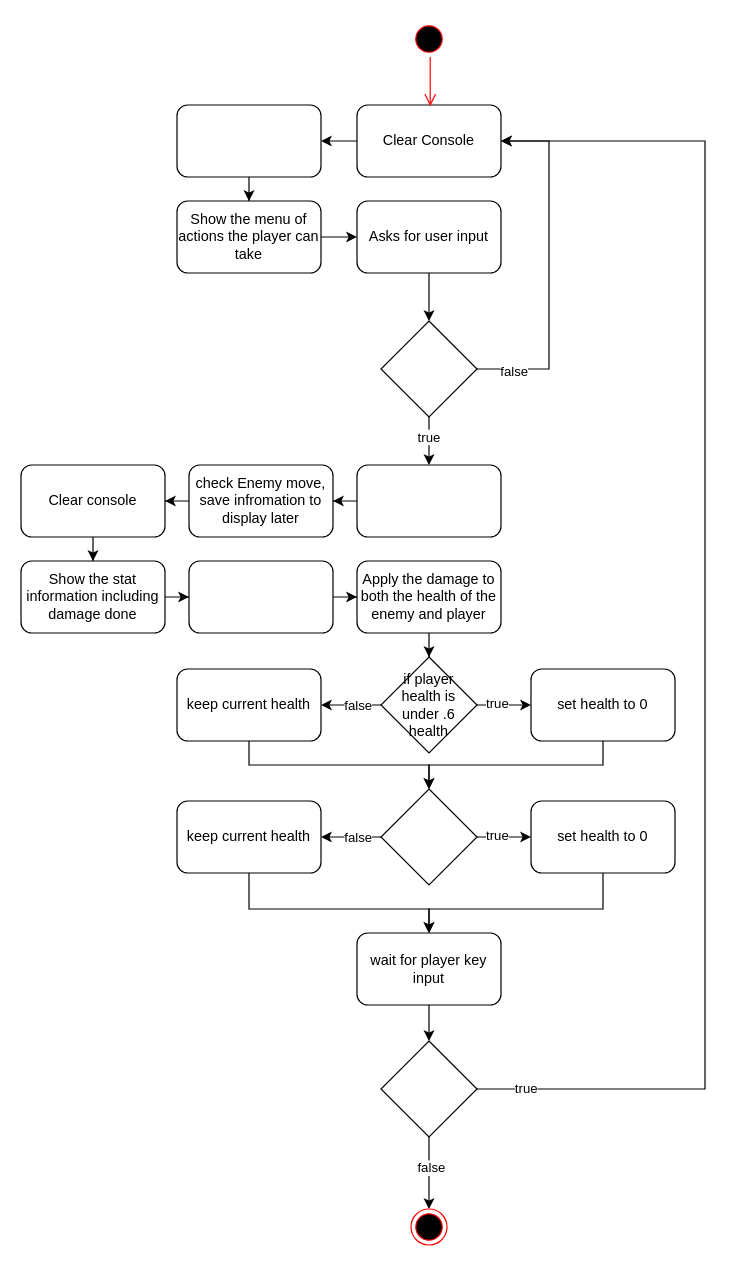
Image size: 736x1266. Some labels were removed from this diagram. The centre of each missing label's shape, as x and y in pixels:
check player move, save infromation to display later: [428,500]
if enemy health is under .6 health: [428,836]
if player health and enemy health isn't 0: [428,1088]
is player has given input: [428,368]
Show Stat information of both player and enemy: [248,140]
show the moves and damage done in it's own menu: [260,596]
